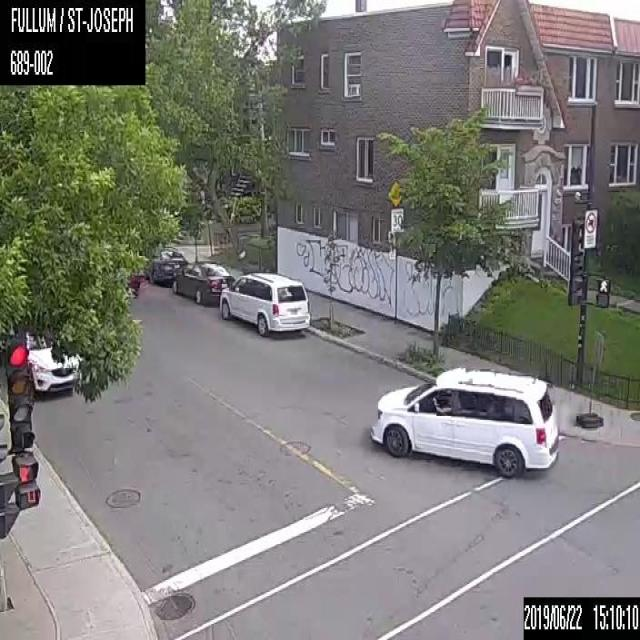construction: (574, 328, 605, 428)
vehicle: (369, 367, 561, 480), (219, 271, 312, 336), (28, 328, 76, 393), (172, 261, 234, 306), (143, 247, 187, 286)
